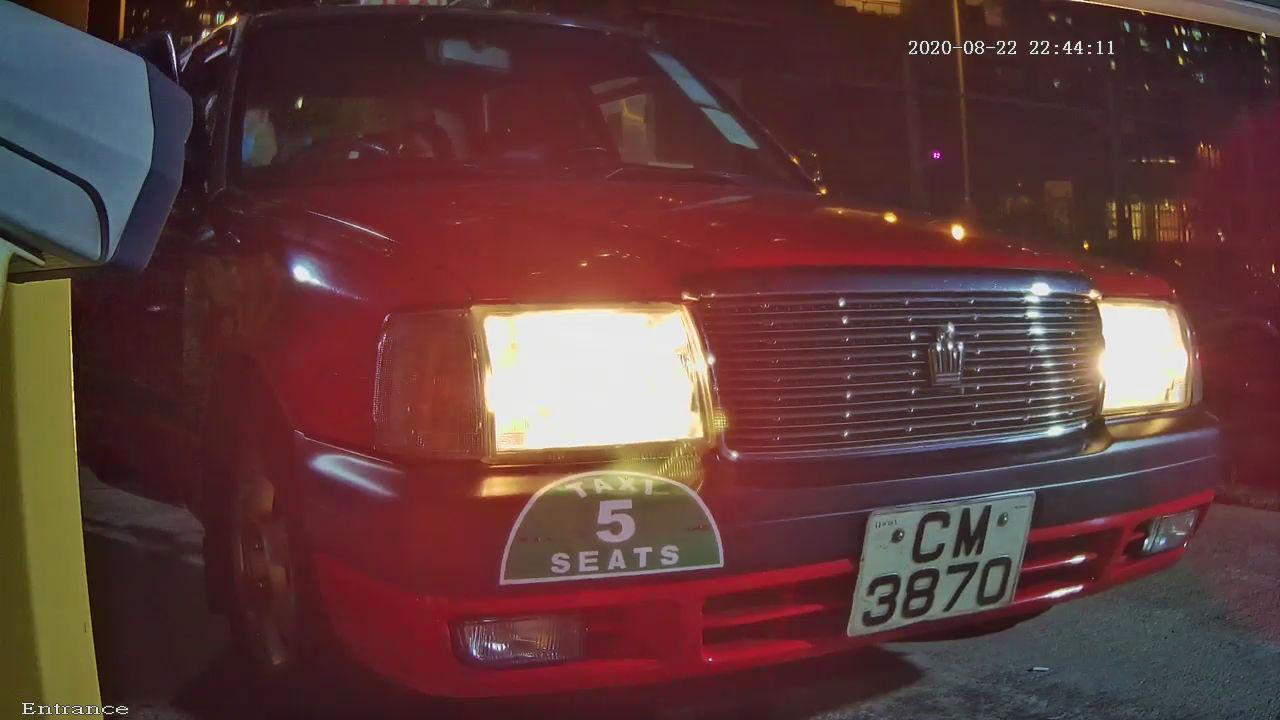License Plate: (788, 443, 1102, 676)
